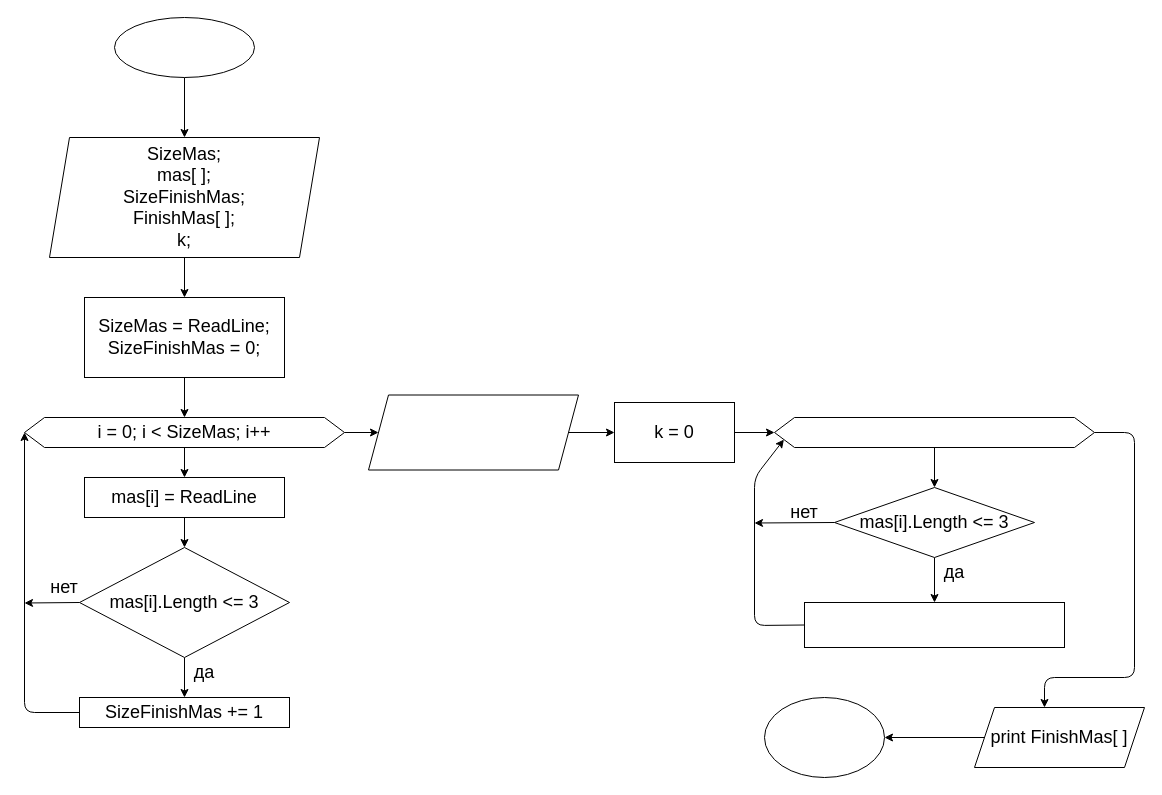
Some shapes in this 1162 by 795 pixel diagram are drawn without their labels. Each missing label, with the box of its shape:
FinishMas[k] = mas[ j ] k += 1: (804, 602, 1064, 648)
j = 0; j < SizeMas; j++: (774, 416, 1094, 448)
Print Mas[ ]; Print SizeFinishMas: (368, 394, 578, 470)
конец: (764, 696, 884, 778)
Начало: (114, 16, 254, 78)
